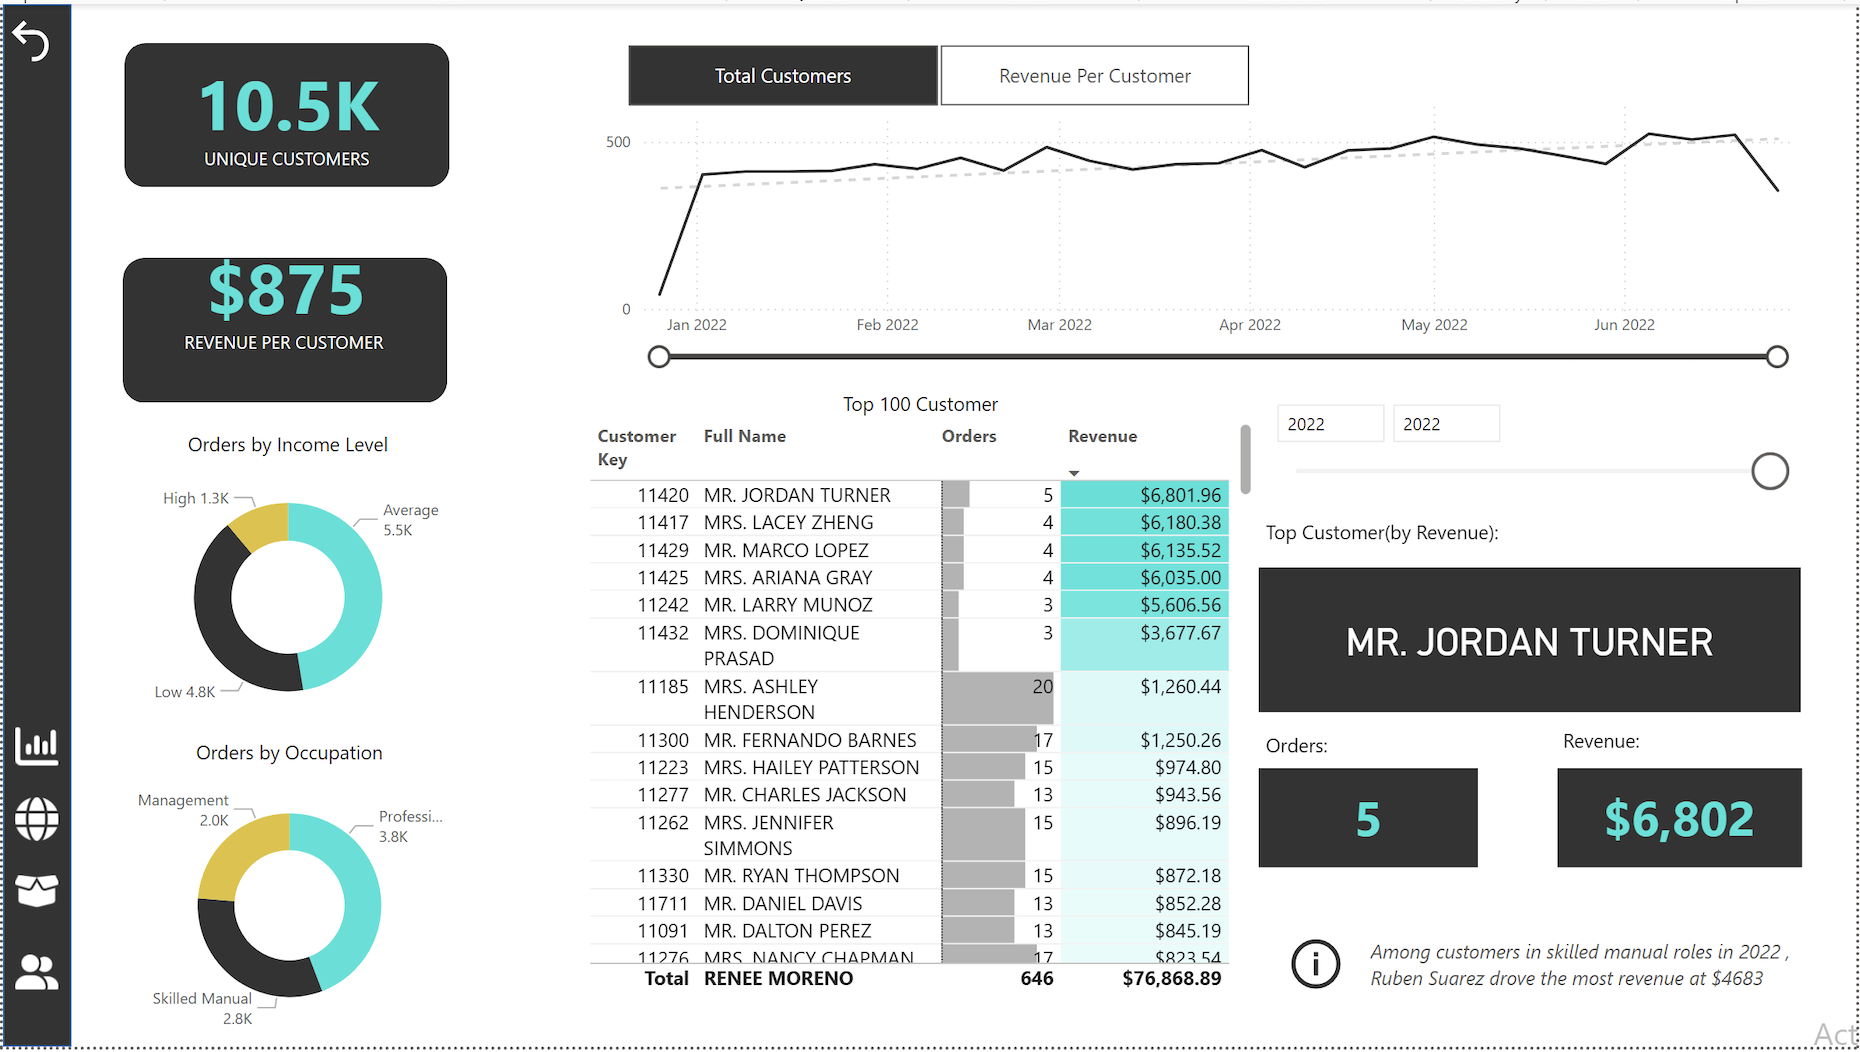

This screenshot's page, from the dashboard's own definition file:
{"tool":"powerbi","page":{"name":"Customer Detail","canvas":[1280,720],"ordinal":1},"visuals":[{"type":"shape","box":[84.6,26.6,224.7,99.7],"z":0,"group":"g1"},{"type":"lineChart","title":"Weekly Customer","fields":{"Y":["Mesure Table.Total Customers"],"Category":["Calendar Lookup.Date Hierarchy.Start of Year","Calendar Lookup.Date Hierarchy.Start of Month","Calendar Lookup.Date Hierarchy.Start of Week","Calendar Lookup.Date Hierarchy.Date"]},"box":[410.1,58,841.3,196.5],"z":0},{"type":"card","fields":{"Values":["Mesure Table.Total Customers"]},"box":[83.3,0,226.8,150.3],"z":1000,"group":"g1"},{"type":"donutChart","title":"Orders by Income Level","fields":{"Category":["Customer Lookup.Income Level"],"Y":["Mesure Table.Total Orders"]},"box":[76.5,294.1,241.3,212.3],"z":1000},{"type":"actionButton","box":[4,490.5,38.2,44.8],"z":1000,"group":"g2"},{"type":"group","id":"g1","title":"Group 1","box":[82.1,0,228.1,276.9],"z":2000},{"type":"actionButton","box":[4,535.3,38.2,55.4],"z":2000,"group":"g2"},{"type":"donutChart","title":"Orders by Occupation","fields":{"Y":["Mesure Table.Total Orders"],"Category":["Customer Lookup.Occupation"]},"box":[85.3,507.1,226.1,212.3],"z":3000},{"type":"actionButton","box":[4,590.7,38.2,44.8],"z":3000,"group":"g2"},{"type":"shape","box":[83.7,175.2,224.2,100.2],"z":4000,"group":"g1"},{"type":"tableEx","title":"Top 100 Customer","fields":{"Values":["Customer Lookup.CustomerKey","Min(Customer Lookup.Full Name)","Mesure Table.Total Orders","Mesure Table.Total Revenue"]},"box":[399.6,266.4,468.1,419.3],"z":4000},{"type":"actionButton","box":[4,646.1,38.2,44.8],"z":4000,"group":"g2"},{"type":"card","fields":{"Values":["Mesure Table.Average Revenue Per Customer"]},"box":[82.1,126.6,228.1,150.3],"z":4500,"group":"g1"},{"type":"card","fields":{"Values":["Mesure Table.FULL name (Customer Detail)"]},"box":[867.7,389,374.5,100.2],"z":5000},{"type":"textbox","box":[867.1,350.4,187.5,40.9],"z":6000},{"type":"textbox","box":[1073,494.2,179,33.8],"z":7000},{"type":"textbox","box":[867.7,497.1,163.5,31.6],"z":8000},{"type":"card","fields":{"Values":["Mesure Table.Total Orders (Customer Detail)"]},"box":[867.7,527.5,151.6,68.6],"z":9000},{"type":"card","fields":{"Values":["Mesure Table.Total Revenue (Customer Detail)"]},"box":[1073.4,527.5,168.8,68.6],"z":10000},{"type":"slicer","fields":{"Values":["Calendar Lookup.Year"]},"box":[867.7,266.4,374.5,72.5],"z":11000},{"type":"shape","title":"Left Nav Background","box":[0,0,47.5,720],"z":12000},{"type":"actionButton","box":[884.8,640.9,357.4,44.8],"z":13000},{"type":"actionButton","box":[0,2.6,38.2,46.2],"z":14000},{"type":"group","id":"g2","title":"Navigation buttons","box":[4,490.5,38.2,200.4],"z":15000},{"type":"slicer","fields":{"Values":["Customer Metric Selection.Customer Metric Selection"]},"box":[406.2,21.1,478.7,55.4],"z":16000}]}

Visuals, with their boxes on the page's 1280x720 design canvas (x1, y1, x2, y2). These are canvas units, not pixel positions in the 1860x1052 screenshot, which may show the page scaled, cropped or inside an application window:
shape: (85, 27, 309, 126)
"Weekly Customer" lineChart: (410, 58, 1251, 254)
card - Mesure Table.Total Customers: (83, 0, 310, 150)
"Orders by Income Level" donutChart: (76, 294, 318, 506)
actionButton: (4, 490, 42, 535)
"Group 1" group: (82, 0, 310, 277)
actionButton: (4, 535, 42, 591)
"Orders by Occupation" donutChart: (85, 507, 311, 719)
actionButton: (4, 591, 42, 636)
shape: (84, 175, 308, 275)
"Top 100 Customer" tableEx: (400, 266, 868, 686)
actionButton: (4, 646, 42, 691)
card - Mesure Table.Average Revenue Per Customer: (82, 127, 310, 277)
card - Mesure Table.FULL name (Customer Detail): (868, 389, 1242, 489)
textbox: (867, 350, 1055, 391)
textbox: (1073, 494, 1252, 528)
textbox: (868, 497, 1031, 529)
card - Mesure Table.Total Orders (Customer Detail): (868, 528, 1019, 596)
card - Mesure Table.Total Revenue (Customer Detail): (1073, 528, 1242, 596)
slicer - Calendar Lookup.Year: (868, 266, 1242, 339)
"Left Nav Background" shape: (0, 0, 48, 720)
actionButton: (885, 641, 1242, 686)
actionButton: (0, 3, 38, 49)
"Navigation buttons" group: (4, 490, 42, 691)
slicer - Customer Metric Selection.Customer Metric Selection: (406, 21, 885, 76)
